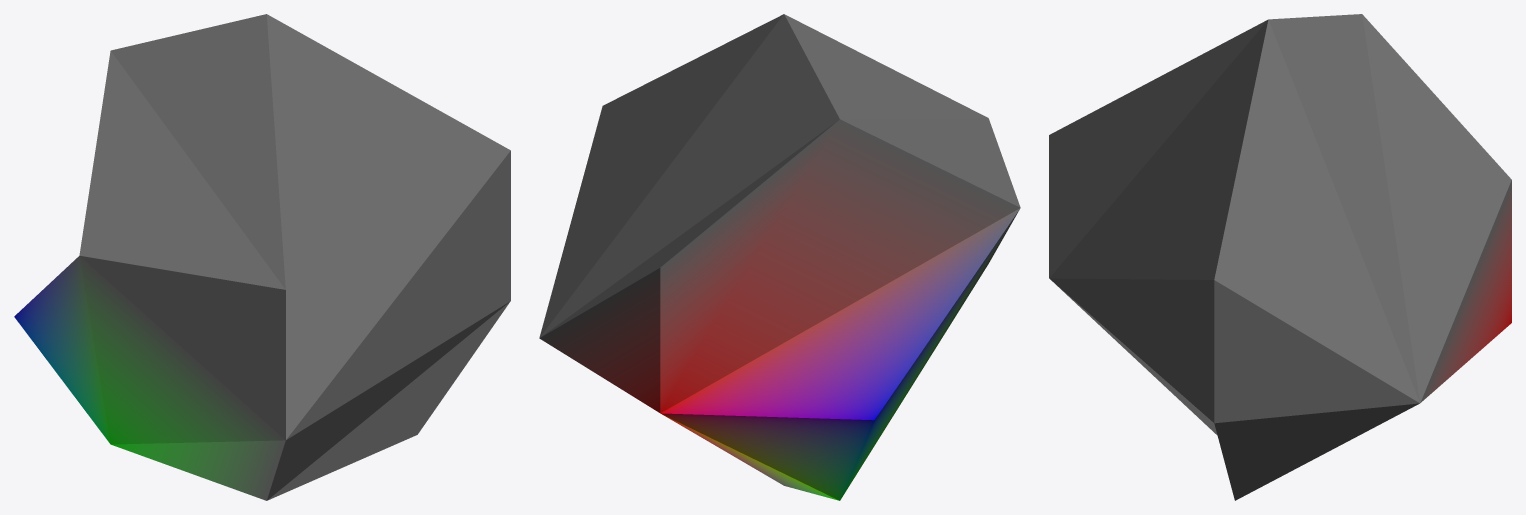
The model's file is decimating_conquest_4_15.obj.
3 renders of one model, left to right at view 1: azimuth 30°, elevation 25°; view 2: azimuth 150°, elevation 25°; view 3: azimuth 270°, elevation 25°, orthographic. The views are drawn at different scales.
Size of the model in its own units: 1.85 by 2 by 1.81.
